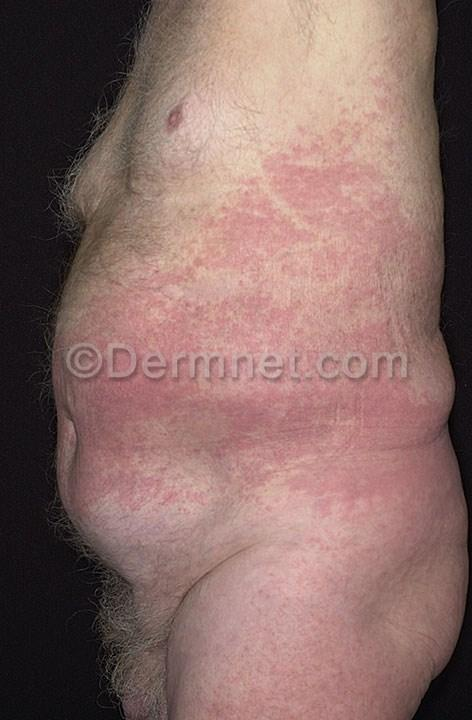Eczema: (56, 460, 472, 720), (251, 302, 459, 517), (51, 262, 246, 460), (242, 105, 433, 295)
